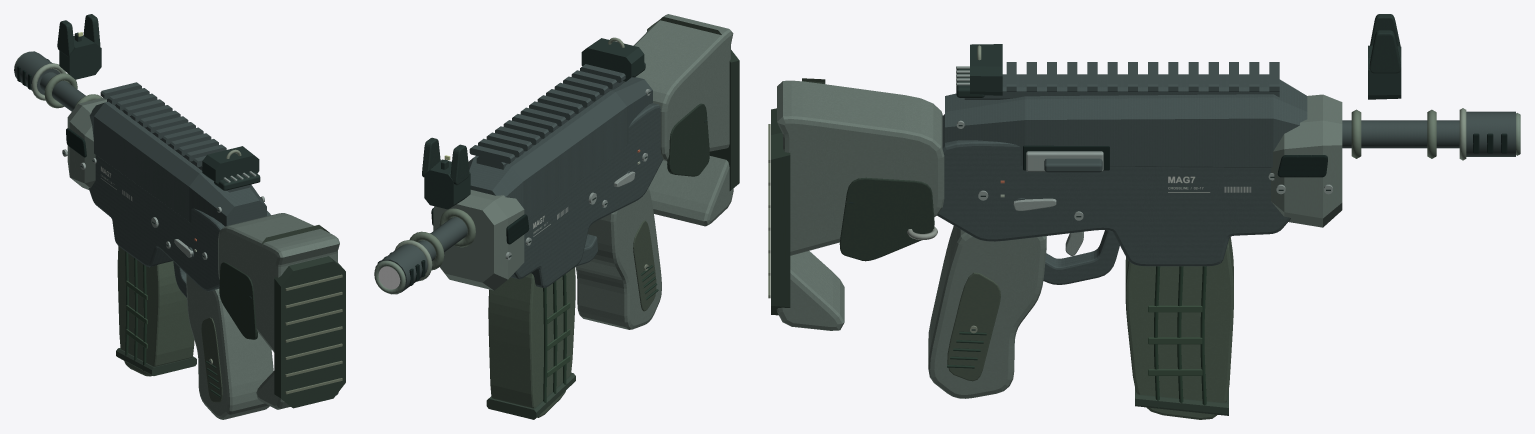
Rendered from mag7.glb.
3 views of the same model, side by side, from view 1: azimuth 30°, elevation 25°; view 2: azimuth 150°, elevation 25°; view 3: azimuth 270°, elevation 25° (orthographic). The views are drawn at different scales.
Visible parts, largest first — view 1: mag7, magazine; view 2: mag7, magazine; view 3: mag7, magazine, bolt.
Boxes of the visible parts, x1,y1,x2,y2 form: mag7: [14, 14, 345, 419]; magazine: [116, 246, 196, 376]; mag7: [374, 14, 739, 329]; magazine: [486, 267, 575, 419]; mag7: [768, 14, 1520, 398]; magazine: [1125, 237, 1233, 419]; bolt: [1026, 151, 1103, 172].
Bounding box in the file's own units: 0.1552 × 0.5458 × 0.9678.
Materials: 28 (16 with a texture image).
